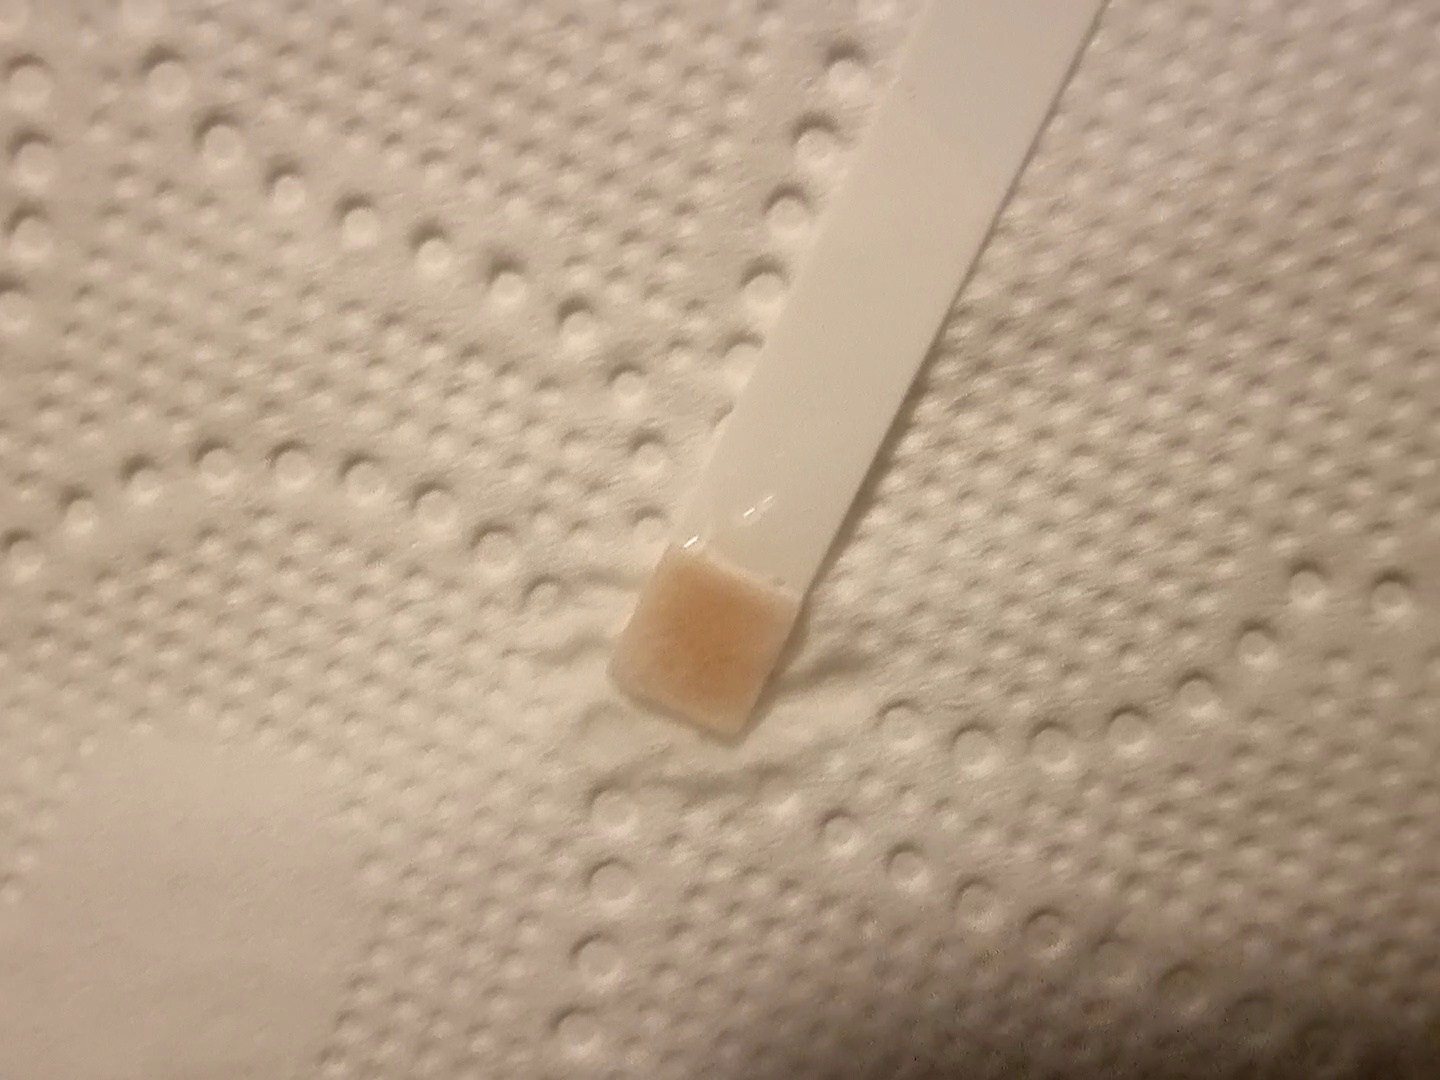keto-tip: (598, 532, 811, 753)
